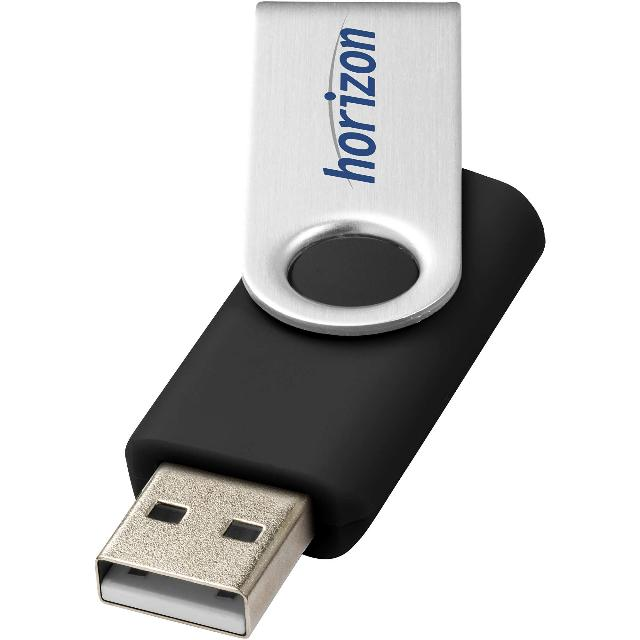USB-Flash-Drive: (84, 0, 566, 640)
